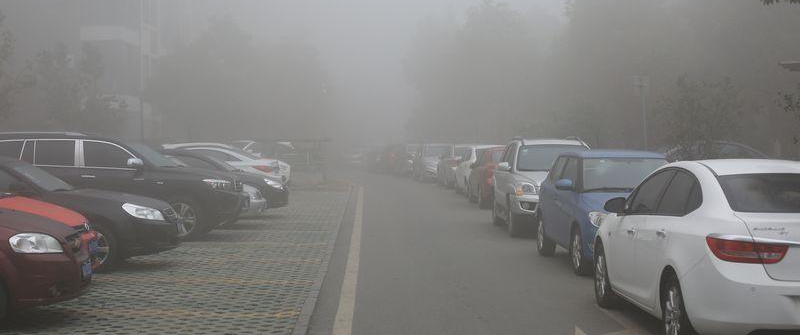car: (592, 151, 800, 335), (1, 130, 254, 241), (1, 153, 188, 272), (533, 148, 689, 278), (489, 133, 603, 239), (1, 184, 96, 311), (129, 147, 268, 230), (147, 141, 292, 213), (158, 134, 283, 195), (465, 142, 536, 211), (454, 141, 512, 198), (436, 142, 481, 192), (412, 141, 459, 182)
